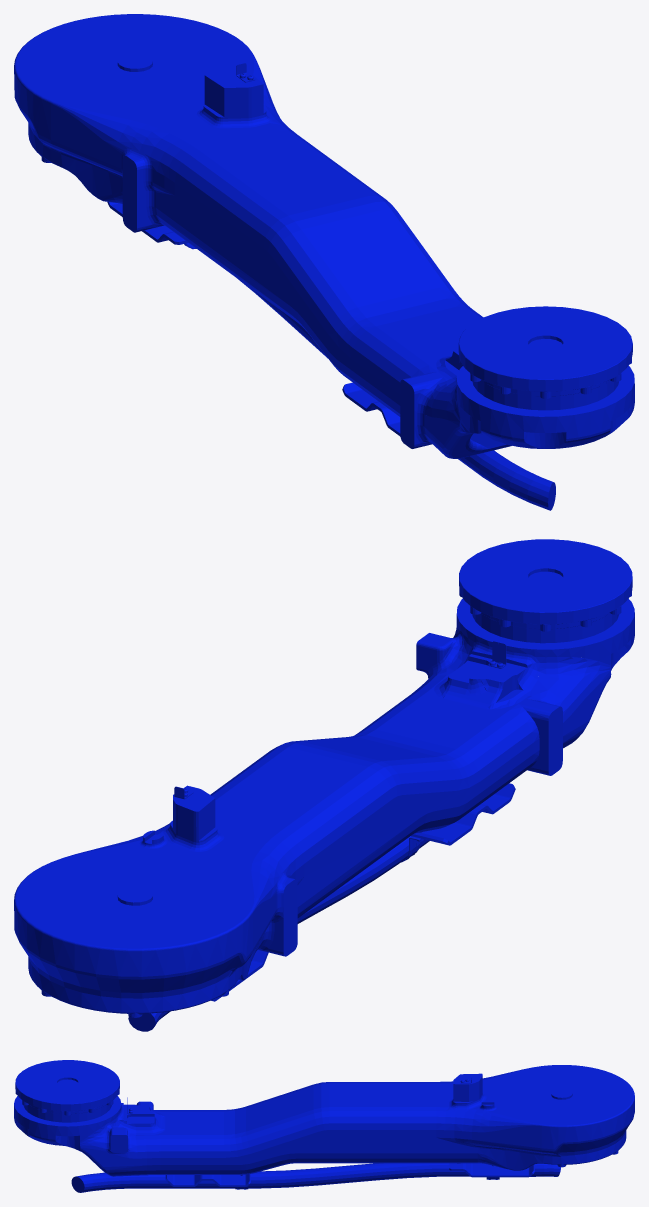
3 views of the same model, one above another, from view 1: azimuth 30°, elevation 25°; view 2: azimuth 150°, elevation 25°; view 3: azimuth 270°, elevation 25° (orthographic). The views are drawn at different scales.
Parts seen in each view (by area): view 1: /Link2/Link2-mesh/0; view 2: /Link2/Link2-mesh/0; view 3: /Link2/Link2-mesh/0.
Part boxes in pixels (box(x1,y1,x2,y2)): /Link2/Link2-mesh/0: box(14, 14, 634, 510); /Link2/Link2-mesh/0: box(14, 539, 634, 1031); /Link2/Link2-mesh/0: box(14, 1060, 634, 1192).
Bounding box in the file's own units: 0.34 × 0.3145 × 1.44.
